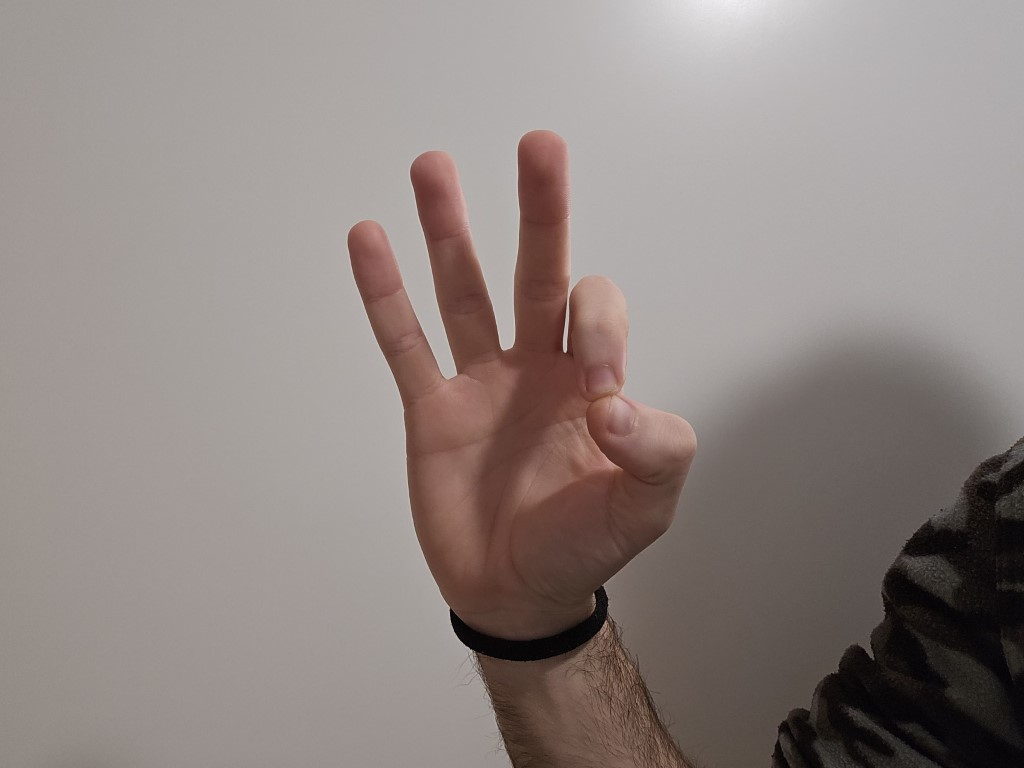f: (275, 111, 719, 627)
